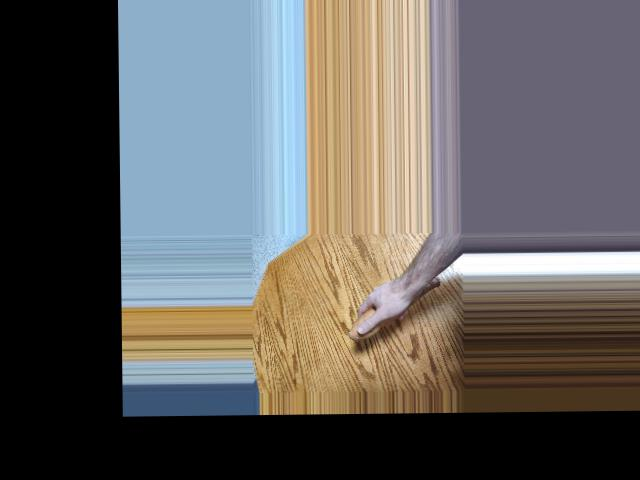sweet_potato: (346, 273, 444, 339)
